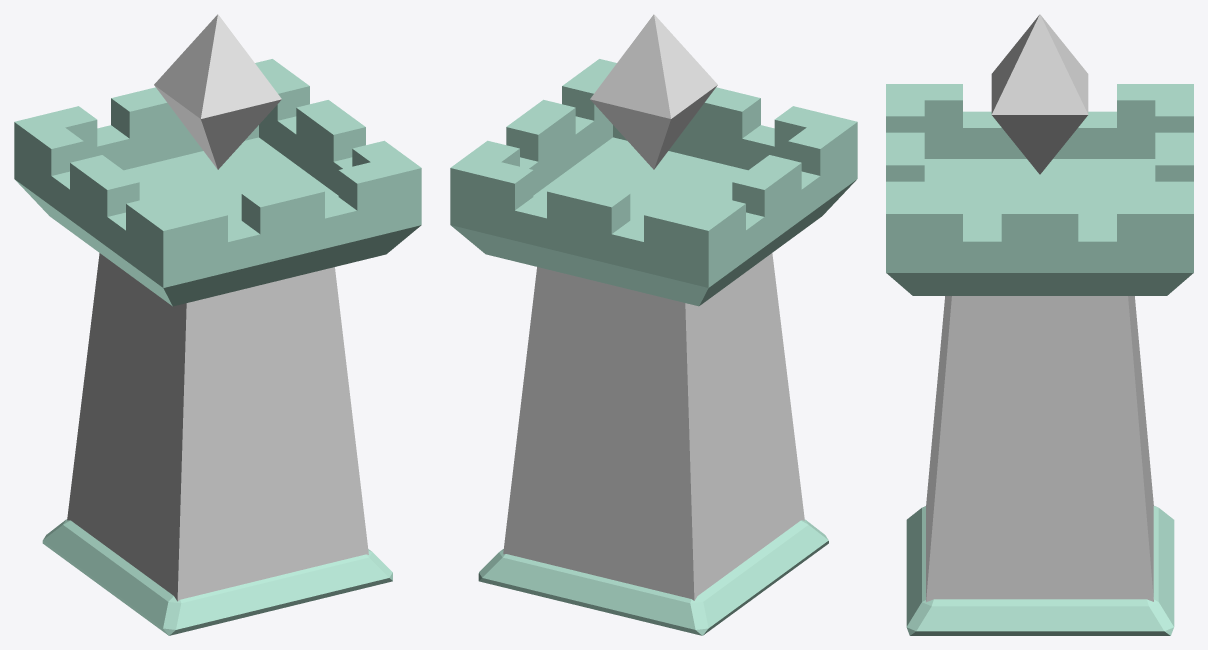
The model's file is tower.fbx.
3 views of the same model, side by side, from view 1: azimuth 30°, elevation 25°; view 2: azimuth 150°, elevation 25°; view 3: azimuth 270°, elevation 25° (orthographic). The views are drawn at different scales.
Visible parts, largest first — view 1: TowerBase, TowerHead, Rank, Crystal; view 2: TowerBase, TowerHead, Rank, Crystal; view 3: TowerBase, TowerHead, Rank, Crystal.
Part boxes in pixels (x1=…): TowerBase: x1=67, y1=253, x2=368, y2=601; TowerHead: x1=14, y1=59, x2=421, y2=306; Rank: x1=42, y1=519, x2=392, y2=635; Crystal: x1=154, y1=14, x2=281, y2=169; TowerBase: x1=503, y1=253, x2=804, y2=600; TowerHead: x1=450, y1=59, x2=857, y2=306; Rank: x1=478, y1=519, x2=828, y2=635; Crystal: x1=590, y1=14, x2=717, y2=169; TowerBase: x1=926, y1=296, x2=1153, y2=602; TowerHead: x1=886, y1=84, x2=1193, y2=295; Rank: x1=906, y1=506, x2=1174, y2=635; Crystal: x1=991, y1=14, x2=1088, y2=174.
Size of the model in its own units: 3.67 by 3.67 by 7.44.
